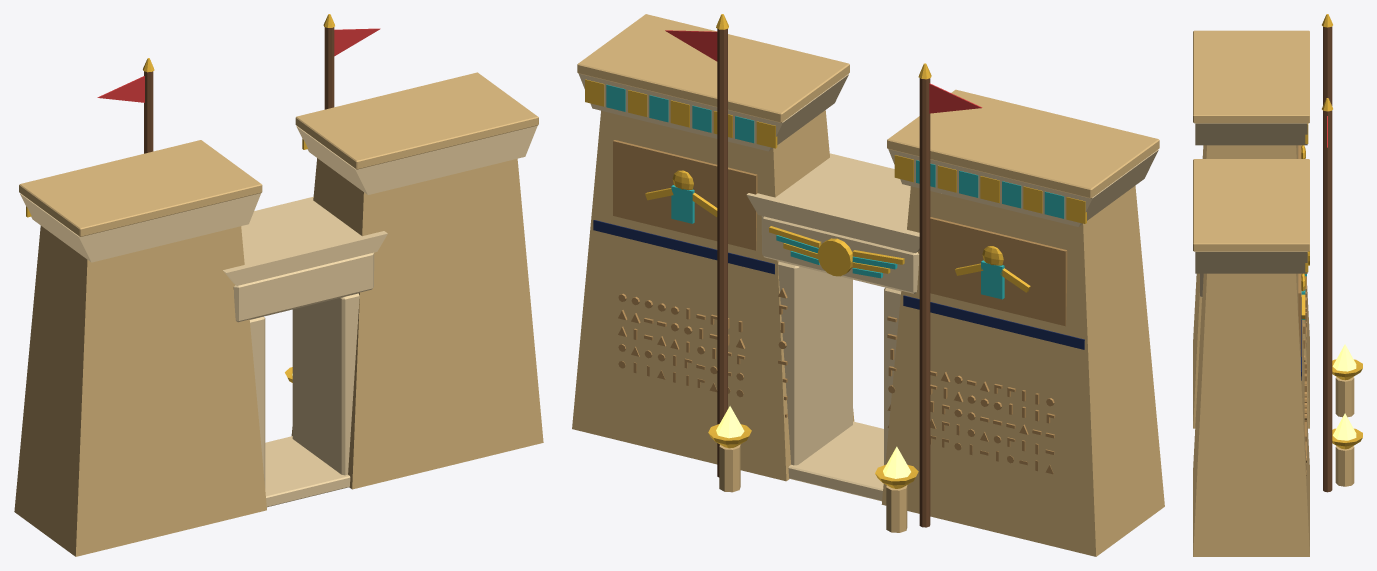
The model's file is TempleGate.fbx.
3 views of the same model, side by side, from view 1: azimuth 30°, elevation 25°; view 2: azimuth 150°, elevation 25°; view 3: azimuth 270°, elevation 25° (orthographic). The views are drawn at different scales.
Visible parts, largest first — view 1: TempleGate_Sandstone, TempleGate_SandstoneLight, TempleGate_WoodDark, TempleGate_Red; view 2: TempleGate_Sandstone, TempleGate_SandstoneLight, TempleGate_SandstoneDark, TempleGate_Gold, TempleGate_WoodDark, TempleGate_Turquoise, TempleGate_Navy, TempleGate_Red, TempleGate_Fire; view 3: TempleGate_Sandstone, TempleGate_SandstoneLight, TempleGate_WoodDark, TempleGate_Gold, TempleGate_SandstoneDark, TempleGate_Fire.
Part boxes in pixels (box(x1,y1,x2,y2)): TempleGate_Sandstone: box(14, 72, 543, 556); TempleGate_SandstoneLight: box(20, 125, 537, 507); TempleGate_WoodDark: box(144, 27, 334, 153); TempleGate_Red: box(97, 28, 380, 102); TempleGate_Sandstone: box(572, 14, 1164, 556); TempleGate_SandstoneLight: box(579, 73, 1158, 501); TempleGate_SandstoneDark: box(613, 140, 1067, 474); TempleGate_Gold: box(585, 14, 1086, 488); TempleGate_WoodDark: box(717, 28, 930, 527); TempleGate_Turquoise: box(606, 84, 1064, 299); TempleGate_Navy: box(593, 220, 1084, 349); TempleGate_Red: box(665, 30, 982, 113); TempleGate_Fire: box(716, 406, 910, 478); TempleGate_Sandstone: box(1193, 30, 1354, 556); TempleGate_SandstoneLight: box(1195, 123, 1307, 297); TempleGate_WoodDark: box(1323, 26, 1332, 492); TempleGate_Gold: box(1301, 14, 1362, 449); TempleGate_SandstoneDark: box(1298, 145, 1306, 475); TempleGate_Fire: box(1332, 344, 1356, 440).
Size of the model in its own units: 44 by 37 by 14.52.
